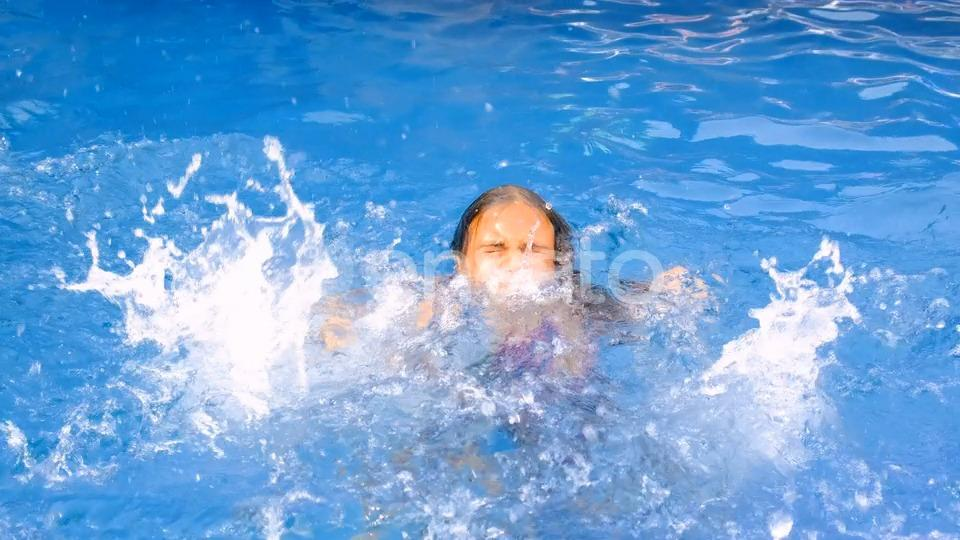Drowning: (192, 104, 831, 464)
